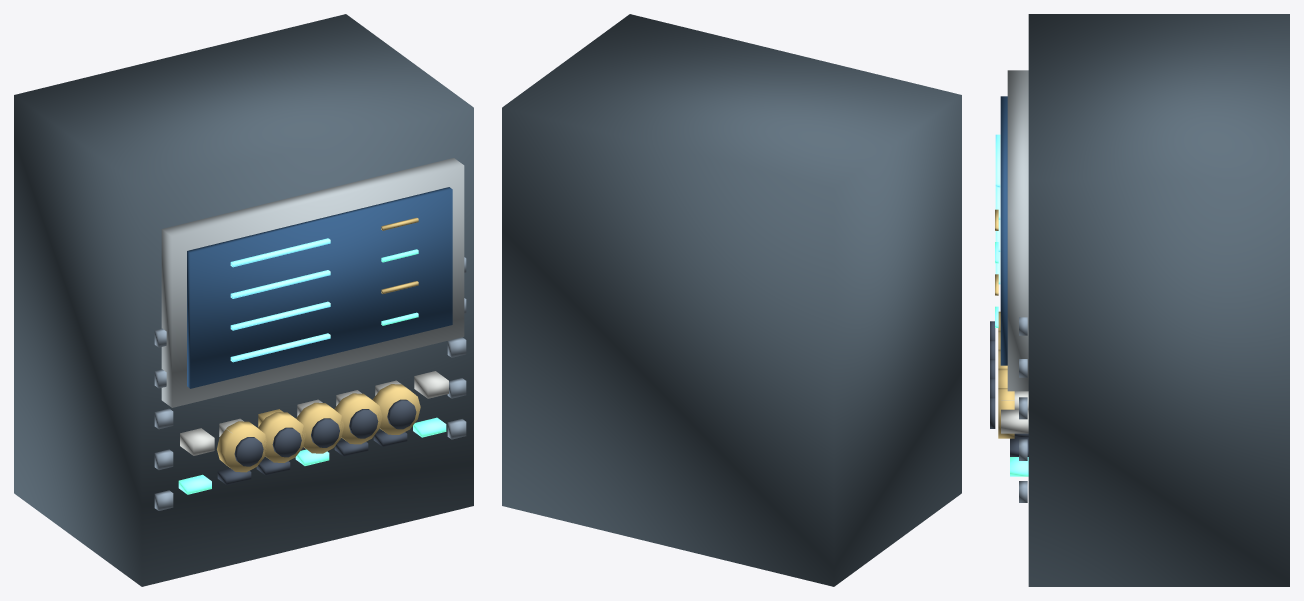
Rendered from 65_L84_AttitudeSafeModeSupervisor.glb.
3 views of the same model, side by side, from view 1: azimuth 30°, elevation 25°; view 2: azimuth 150°, elevation 25°; view 3: azimuth 270°, elevation 25° (orthographic). The views are drawn at different scales.
Parts seen in each view (by area): view 1: L84_AttitudeSafeModeSuperviso_Part_0000, L84_AttitudeSafeModeSuperviso_Part_0002, L84_AttitudeSafeModeSuperviso_Part_0001, L84_AttitudeSafeModeSuperviso_Part_0008, L84_AttitudeSafeModeSuperviso_Part_0003, L84_AttitudeSafeModeSuperviso_Part_0006, L84_AttitudeSafeModeSuperviso_Part_0005, L84_AttitudeSafeModeSuperviso_Part_0007, L84_AttitudeSafeModeSuperviso_Part_0009, L84_AttitudeSafeModeSuperviso_Part_0013, L84_AttitudeSafeModeSuperviso_Part_0011, L84_AttitudeSafeModeSuperviso_Part_0015 (+6 smaller); view 2: L84_AttitudeSafeModeSuperviso_Part_0000; view 3: L84_AttitudeSafeModeSuperviso_Part_0000, L84_AttitudeSafeModeSuperviso_Part_0001, L84_AttitudeSafeModeSuperviso_Part_0002, L84_AttitudeSafeModeSuperviso_Part_0008, L84_AttitudeSafeModeSuperviso_Part_0006, L84_AttitudeSafeModeSuperviso_Part_0003, L84_AttitudeSafeModeSuperviso_Part_0005, L84_AttitudeSafeModeSuperviso_Part_0017.
Part boxes in pixels (left/top/right/bottom): L84_AttitudeSafeModeSuperviso_Part_0000: left=14, top=14, right=473, bottom=586; L84_AttitudeSafeModeSuperviso_Part_0002: left=187, top=187, right=452, bottom=388; L84_AttitudeSafeModeSuperviso_Part_0001: left=161, top=158, right=464, bottom=407; L84_AttitudeSafeModeSuperviso_Part_0008: left=154, top=257, right=466, bottom=510; L84_AttitudeSafeModeSuperviso_Part_0003: left=230, top=238, right=330, bottom=362; L84_AttitudeSafeModeSuperviso_Part_0006: left=180, top=371, right=448, bottom=455; L84_AttitudeSafeModeSuperviso_Part_0005: left=178, top=249, right=446, bottom=494; L84_AttitudeSafeModeSuperviso_Part_0007: left=217, top=431, right=407, bottom=485; L84_AttitudeSafeModeSuperviso_Part_0009: left=217, top=421, right=267, bottom=472; L84_AttitudeSafeModeSuperviso_Part_0013: left=296, top=402, right=344, bottom=453; L84_AttitudeSafeModeSuperviso_Part_0011: left=258, top=412, right=305, bottom=462; L84_AttitudeSafeModeSuperviso_Part_0015: left=334, top=393, right=382, bottom=444; L84_AttitudeSafeModeSuperviso_Part_0000: left=502, top=14, right=961, bottom=586; L84_AttitudeSafeModeSuperviso_Part_0000: left=1028, top=14, right=1289, bottom=586; L84_AttitudeSafeModeSuperviso_Part_0001: left=1007, top=70, right=1028, bottom=391; L84_AttitudeSafeModeSuperviso_Part_0002: left=1000, top=96, right=1007, bottom=365; L84_AttitudeSafeModeSuperviso_Part_0008: left=1019, top=317, right=1027, bottom=502; L84_AttitudeSafeModeSuperviso_Part_0006: left=1001, top=391, right=1028, bottom=433; L84_AttitudeSafeModeSuperviso_Part_0003: left=995, top=134, right=1000, bottom=284; L84_AttitudeSafeModeSuperviso_Part_0005: left=995, top=242, right=1028, bottom=476; L84_AttitudeSafeModeSuperviso_Part_0017: left=998, top=388, right=1014, bottom=438.
Size of the model in its own units: 0.9996 by 1.15 by 0.7652.
